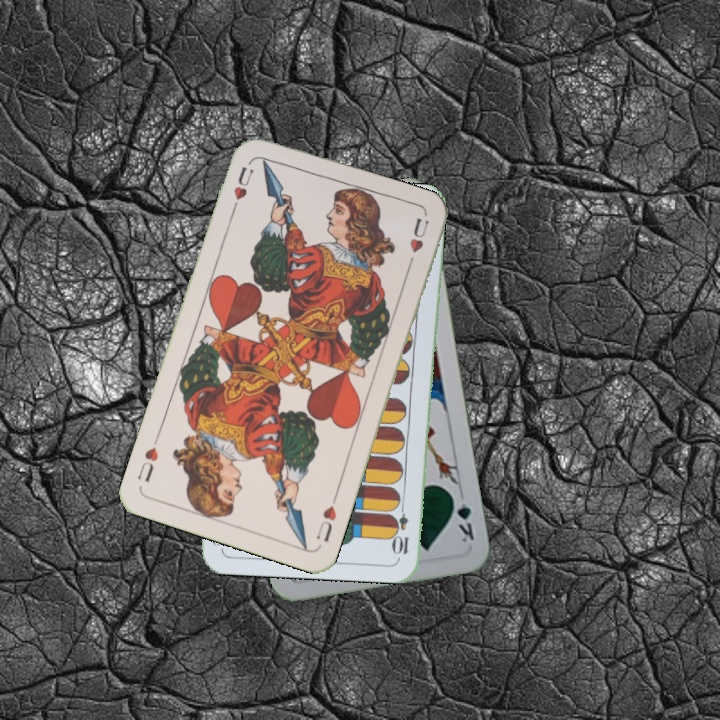E10: (392, 498, 411, 557)
GK: (448, 489, 477, 545)
HU: (228, 162, 256, 215), (313, 491, 340, 545)
